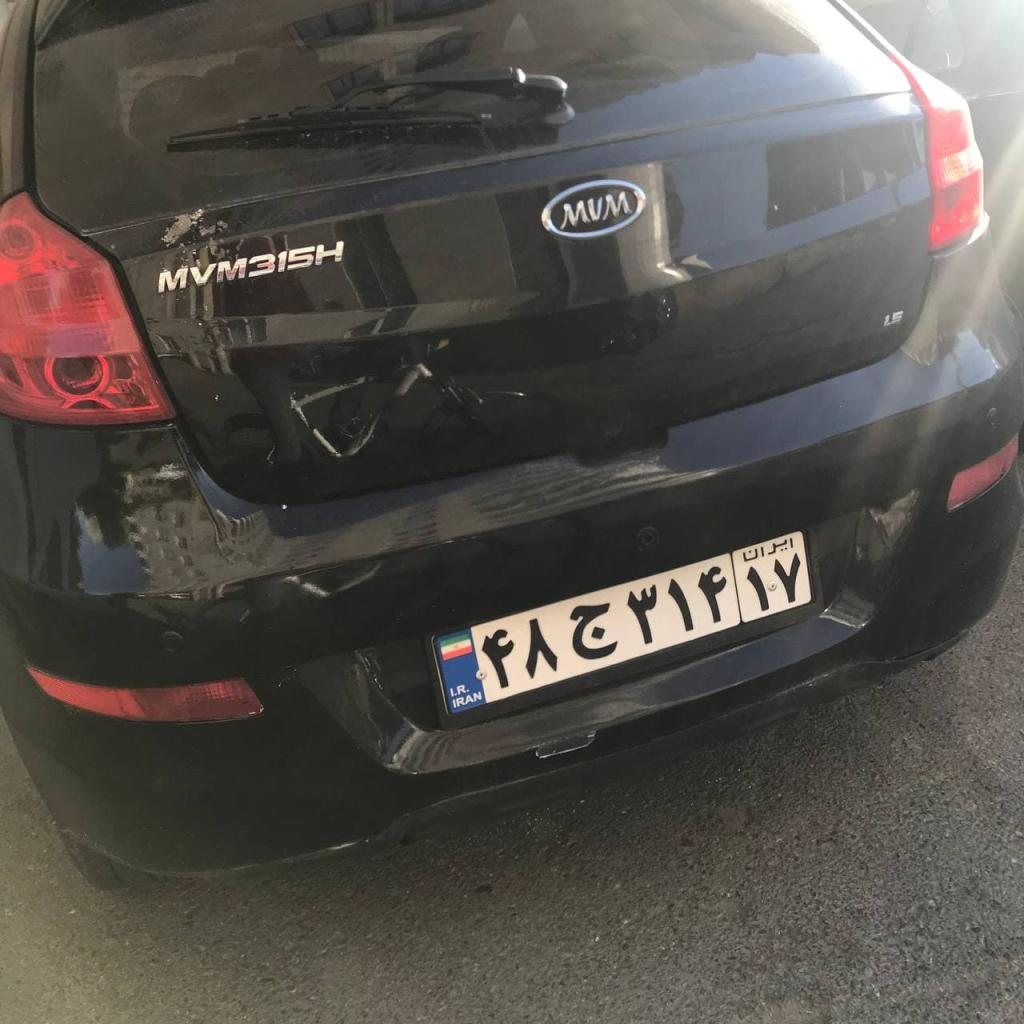Plates: (433, 531, 812, 713)
